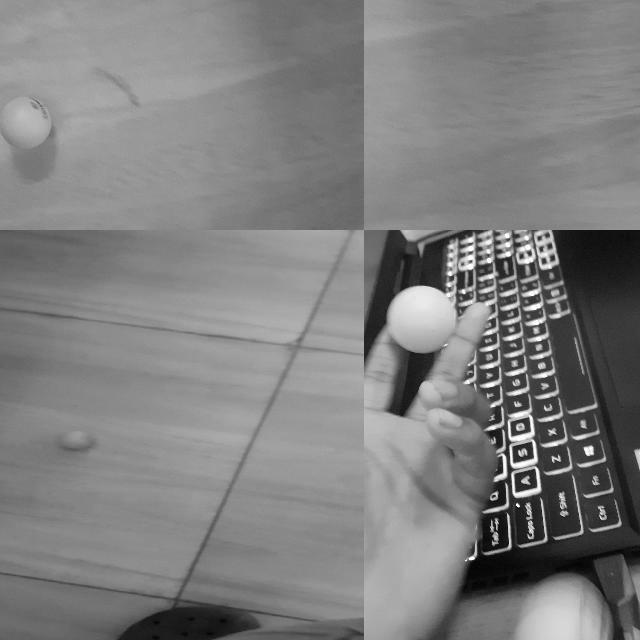ping-pong-ball: (507, 574, 617, 639), (386, 287, 454, 351), (0, 94, 53, 152), (60, 432, 94, 452)
